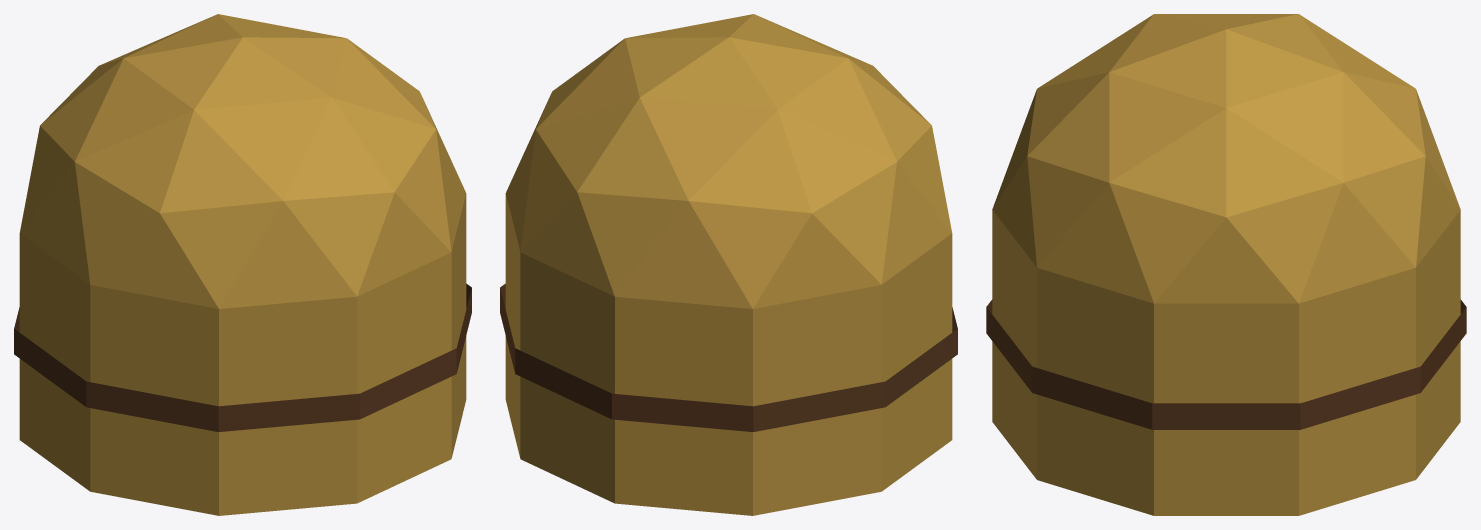
The model's file is hay.glb.
3 renders of one model, left to right at view 1: azimuth 30°, elevation 25°; view 2: azimuth 150°, elevation 25°; view 3: azimuth 270°, elevation 25°, orthographic. The views are drawn at different scales.
Visible parts, largest first — view 1: prop_hay; view 2: prop_hay; view 3: prop_hay.
Boxes of the visible parts, box(x1,y1,x2,y2) form: prop_hay: box(14, 14, 471, 515); prop_hay: box(500, 14, 957, 515); prop_hay: box(986, 14, 1466, 515).
Size of the model in its own units: 0.234 by 0.222 by 0.246.
